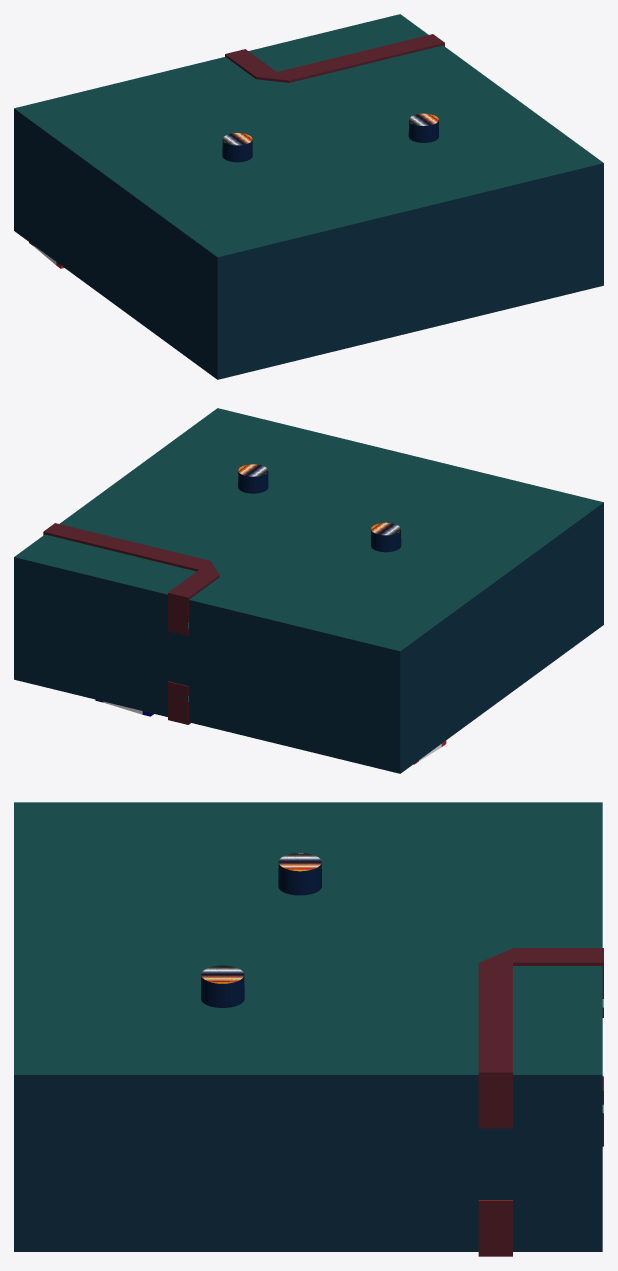
3 views of the same model, one above another, from view 1: azimuth 30°, elevation 25°; view 2: azimuth 150°, elevation 25°; view 3: azimuth 270°, elevation 25° (orthographic). The views are drawn at different scales.
Parts seen in each view (by area): view 1: Plane, Cube.001, Cylinder.018, Cylinder.004; view 2: Plane, Cube.001, Cylinder.004, Cube, Cylinder.018; view 3: Plane, Cube.001, Cube, Cylinder.018, Cylinder.004.
Boxes of the visible parts, box(x1,y1,x2,y2) form: Plane: box(14, 14, 603, 379); Cube.001: box(225, 34, 444, 82); Cylinder.018: box(222, 133, 252, 162); Cylinder.004: box(408, 113, 438, 142); Plane: box(14, 408, 603, 773); Cube.001: box(43, 523, 219, 636); Cylinder.004: box(238, 464, 268, 493); Cube: box(168, 681, 190, 724); Cylinder.018: box(371, 522, 401, 552); Plane: box(14, 802, 602, 1251); Cube.001: box(478, 948, 603, 1128); Cube: box(478, 1076, 603, 1256); Cylinder.018: box(278, 853, 321, 895); Cylinder.004: box(201, 965, 244, 1007).
Size of the model in its own units: 12.31 by 4.34 by 11.21.
Materials: 2 (2 with a texture image).
